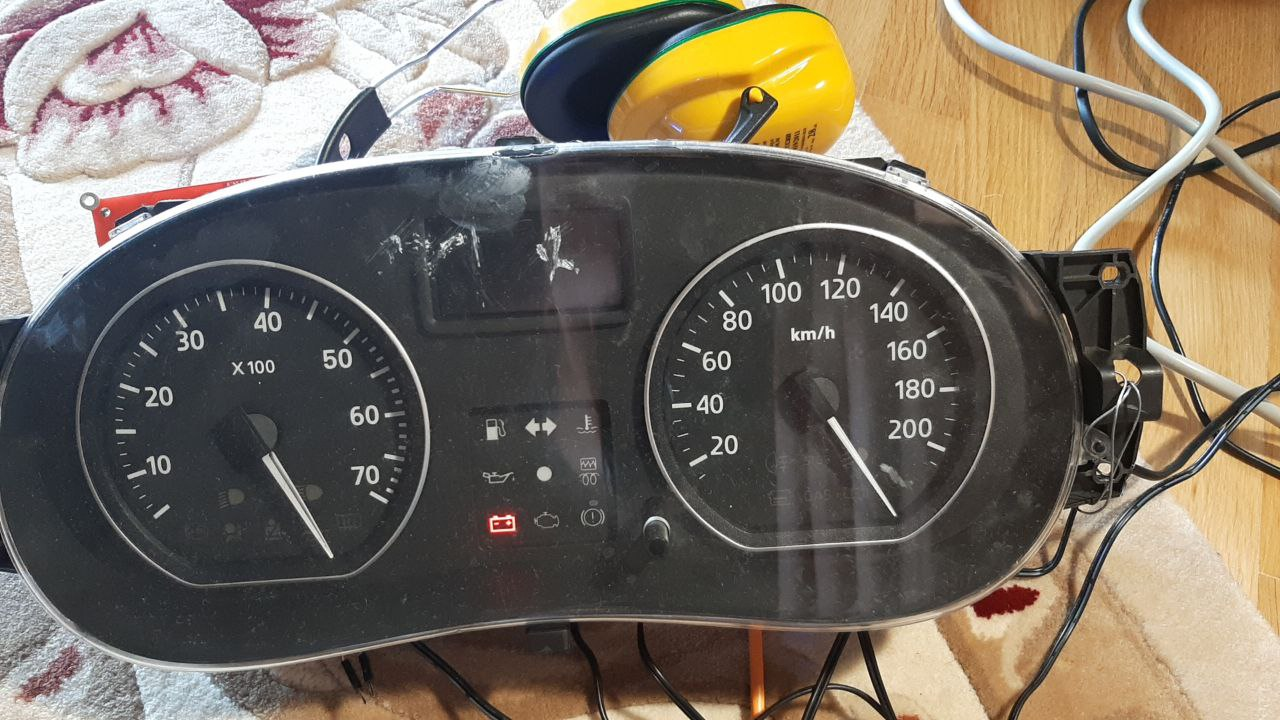accumulator: (482, 508, 520, 541)
